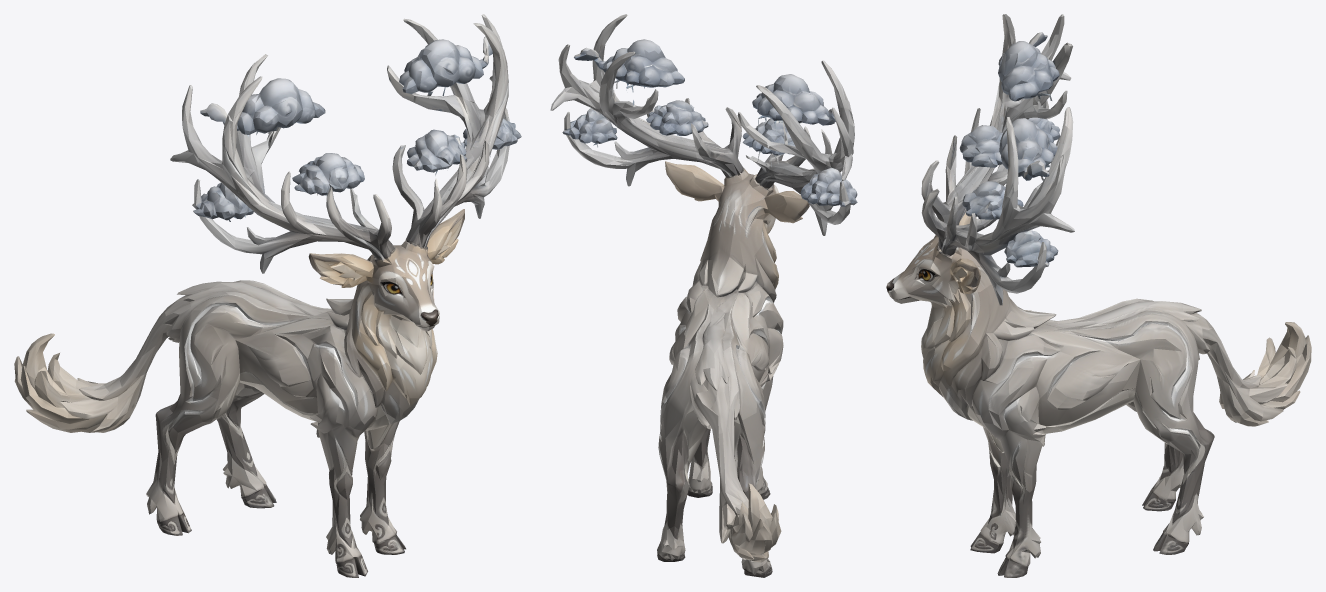
3 renders of one model, left to right at view 1: azimuth 30°, elevation 25°; view 2: azimuth 150°, elevation 25°; view 3: azimuth 270°, elevation 25°, orthographic. The views are drawn at different scales.
Bounding box in the file's own units: 1.42 × 1.9 × 1.48.
Materials: 1 (1 with a texture image).
